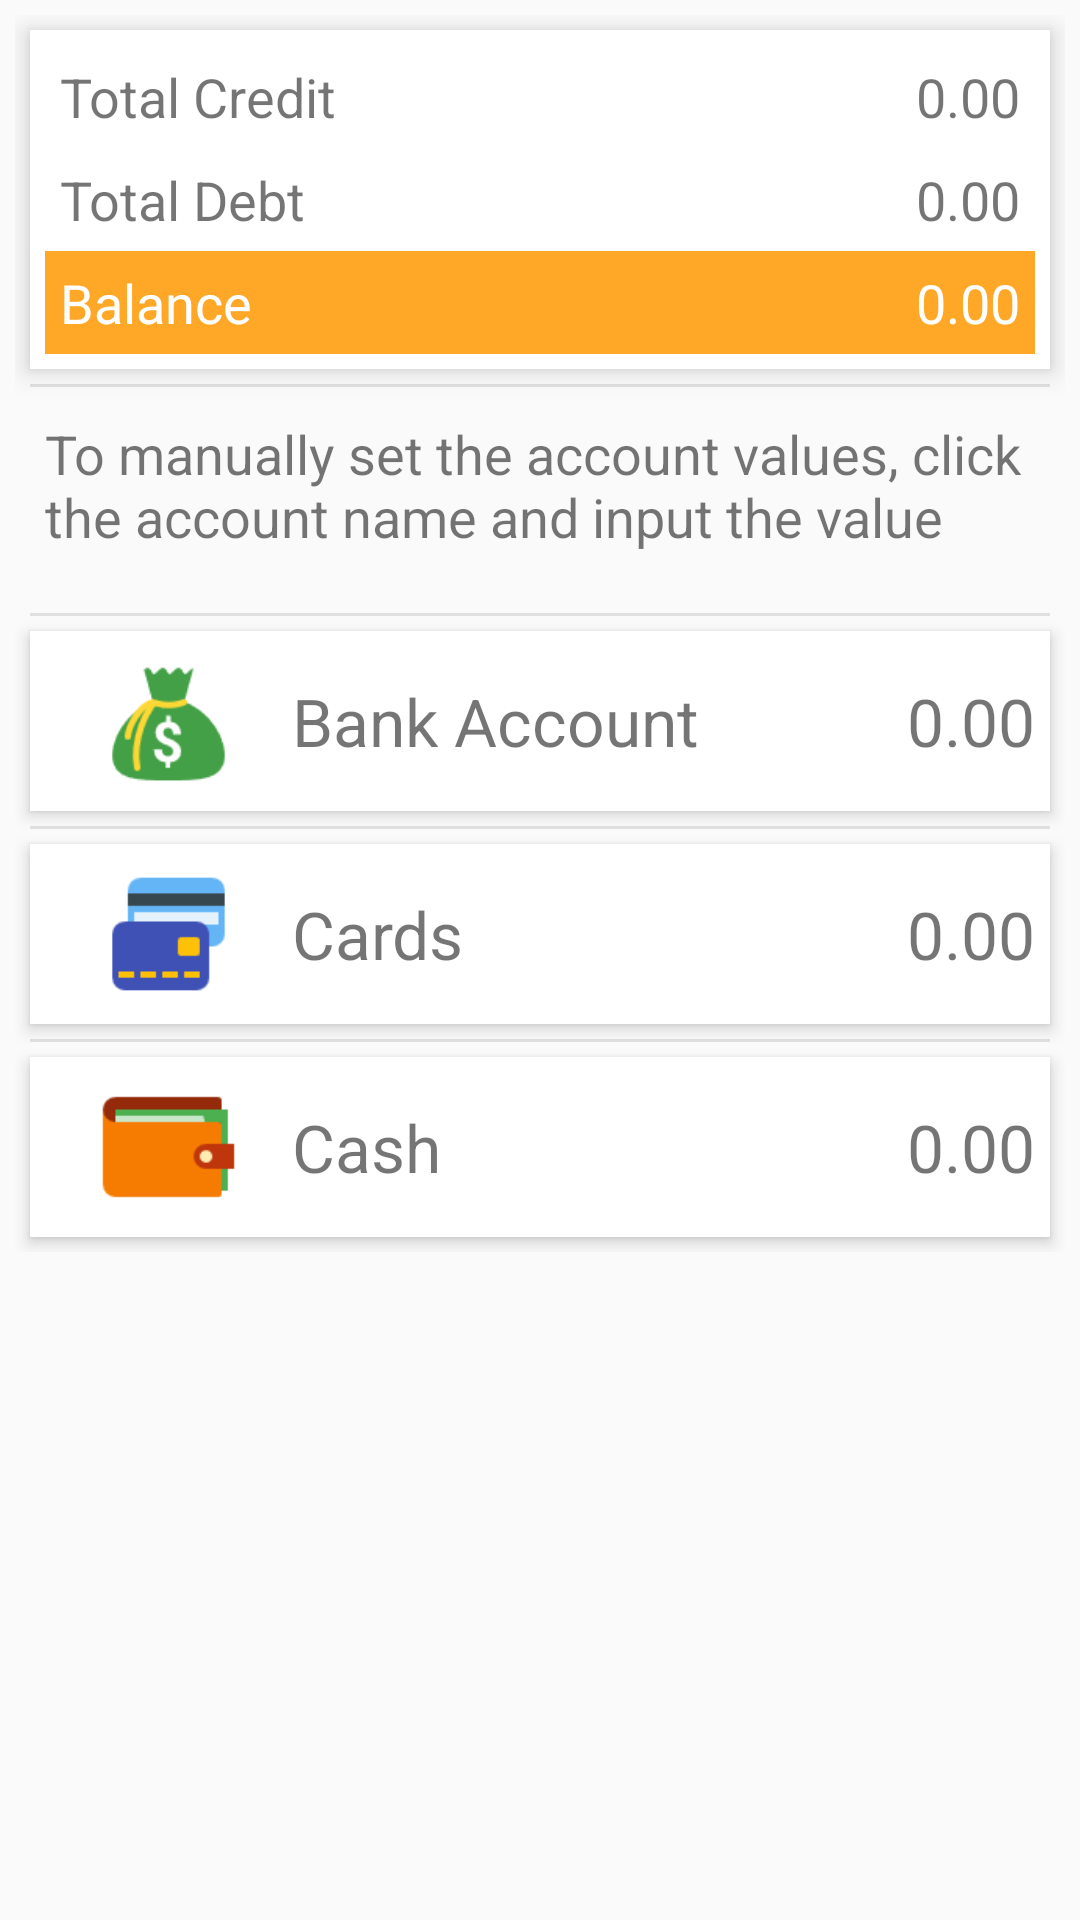

Icons on this 1080 x 1920 Android screen, each with its box as rect(x1, y1, x2, y2):
account card: rect(112, 877, 225, 991)
